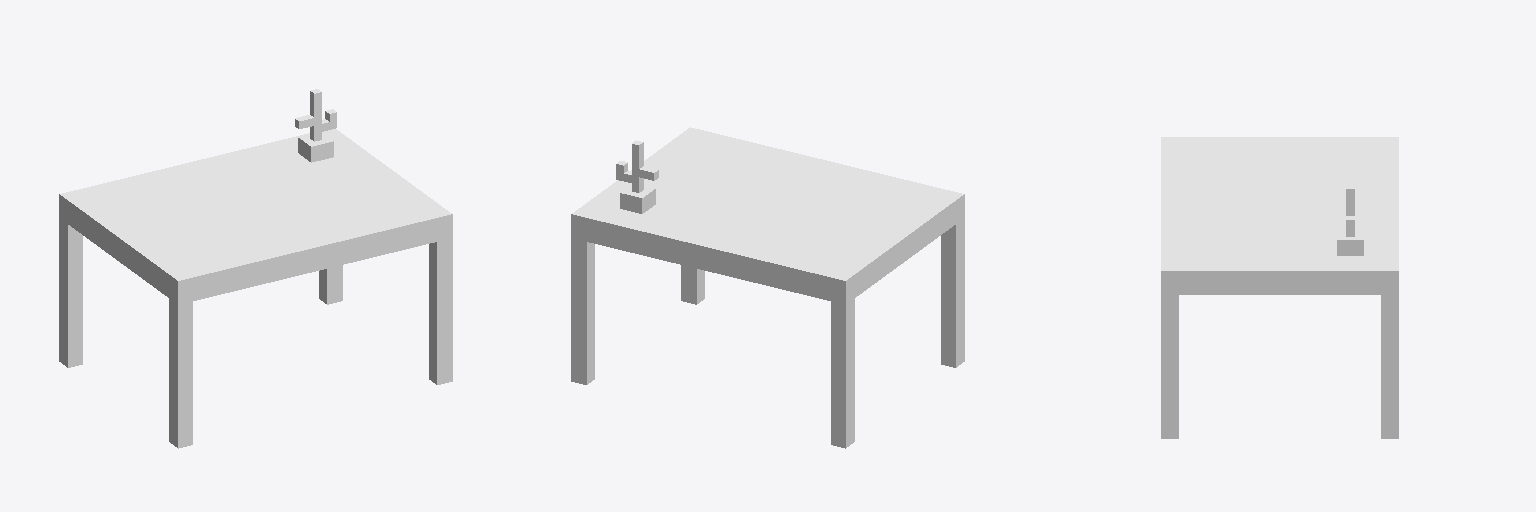
The model's file is test_table.obj.
3 renders of one model, left to right at view 1: azimuth 30°, elevation 25°; view 2: azimuth 150°, elevation 25°; view 3: azimuth 270°, elevation 25°, orthographic.
Parts seen in each view (by area): view 1: object 1; view 2: object 1; view 3: object 1.
Part boxes in pixels (x1,y1,x2,y2): object 1: (59,89,452,448); object 1: (571,127,964,448); object 1: (1161,137,1398,438).
Bounding box in the file's own units: 3.6 × 2.9 × 2.7.